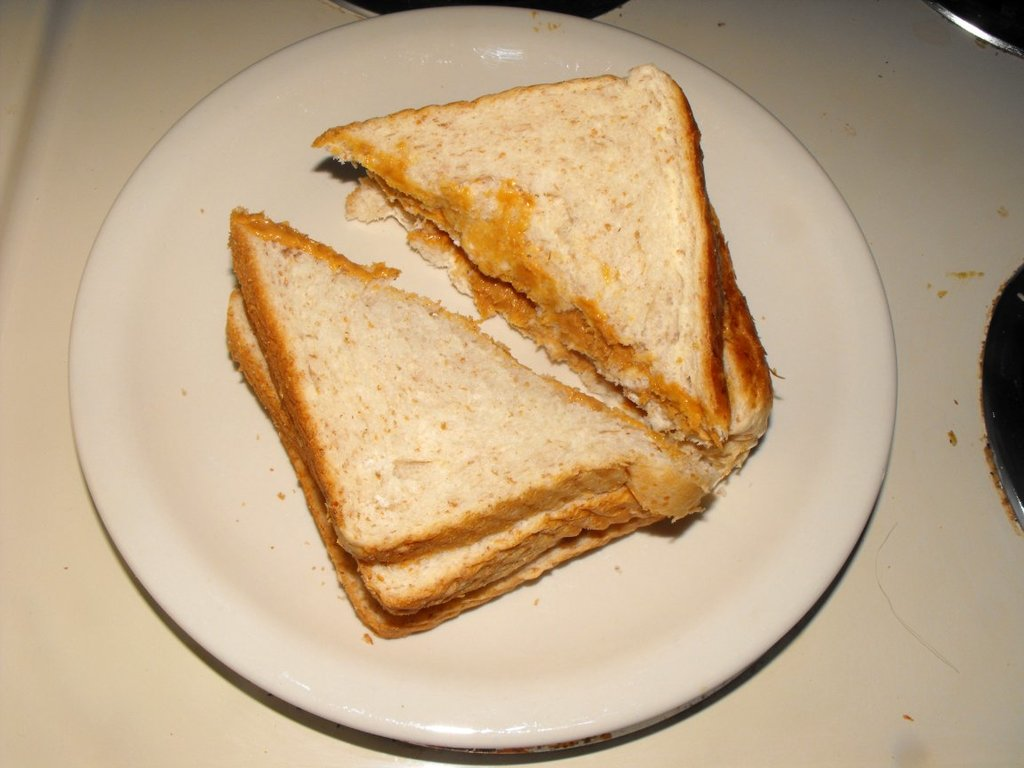sandwich: (219, 207, 706, 640), (309, 57, 765, 479)
